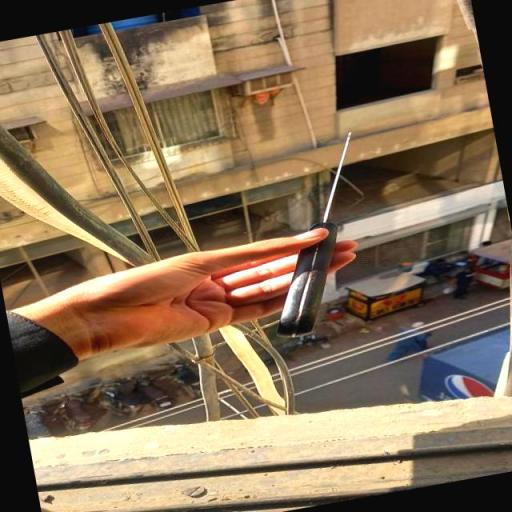knife: (244, 132, 386, 340)
